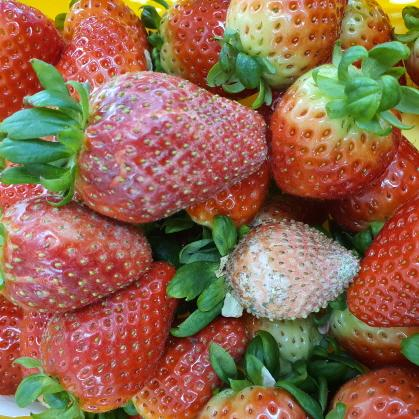Powdery Mildew Fruit: (70, 69, 268, 223), (0, 195, 152, 312), (223, 215, 362, 319)
